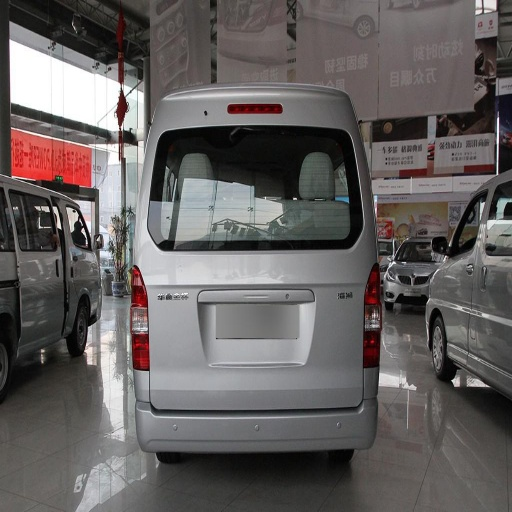back_bumper: (135, 365, 379, 450)
back_left_light: (129, 266, 147, 370)
back_right_door: (442, 255, 472, 351)
tailgate: (151, 235, 354, 264)
trunk: (139, 252, 367, 411), (30, 267, 97, 322)
